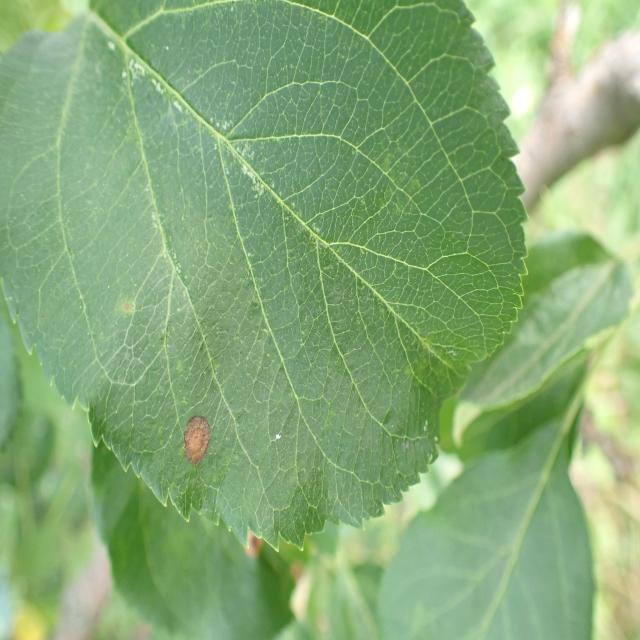Black Rot: (165, 380, 217, 477)
